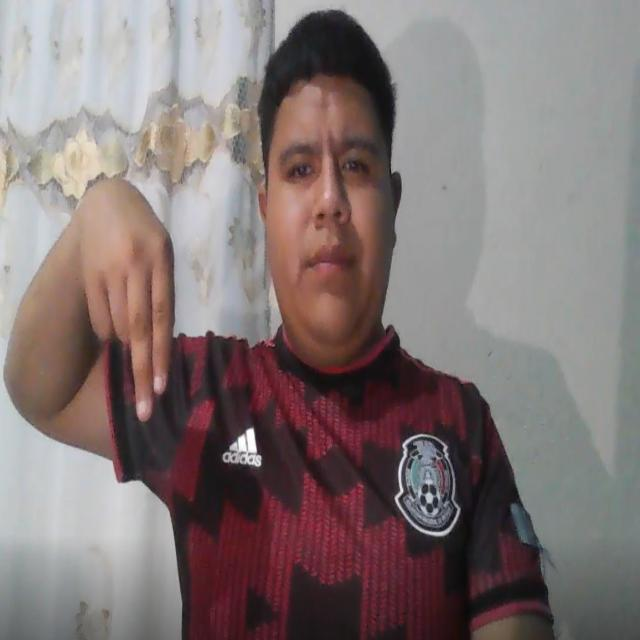N: (85, 156, 203, 438)
